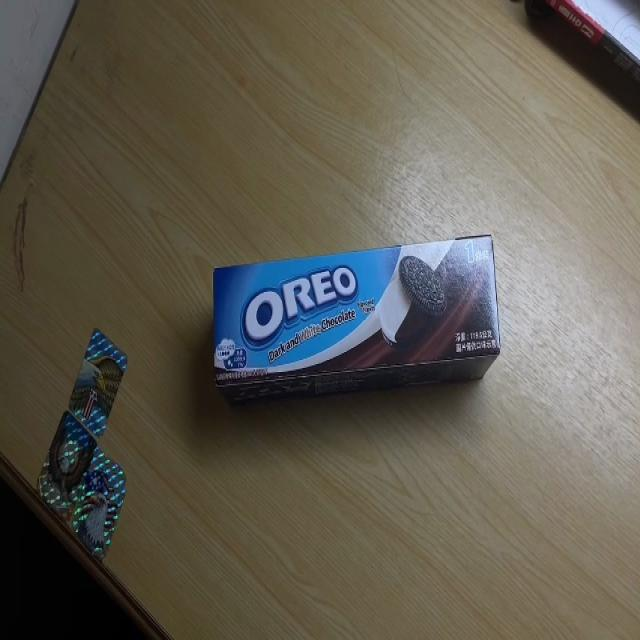Oreo: (214, 233, 501, 400)
